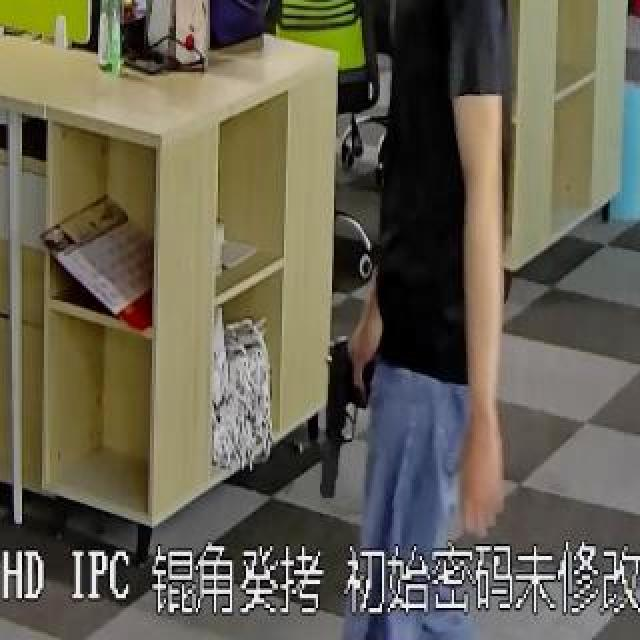Guns: (301, 330, 380, 512)
